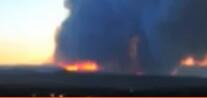fire: (46, 57, 107, 73), (178, 55, 207, 66)
smoke: (51, 1, 205, 67)
